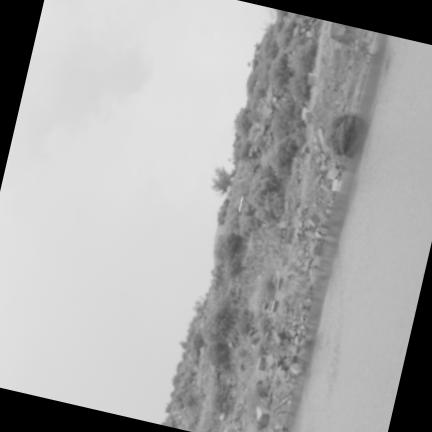Shahed: (239, 197, 243, 211)
